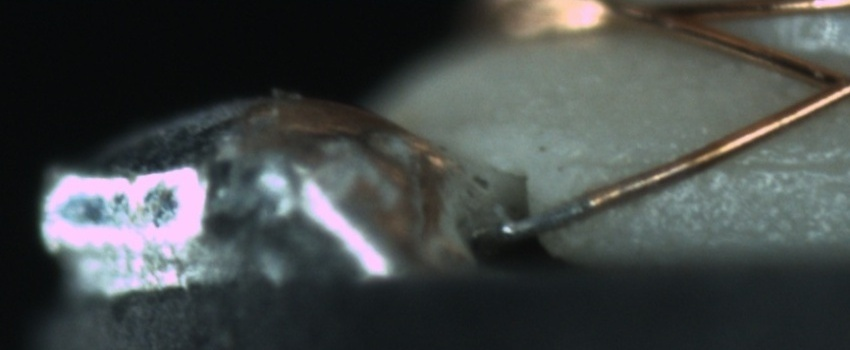CL: (794, 52, 850, 117)
DL: (601, 133, 849, 197)
TS: (492, 195, 599, 238)
TTCW: (494, 178, 638, 239)
